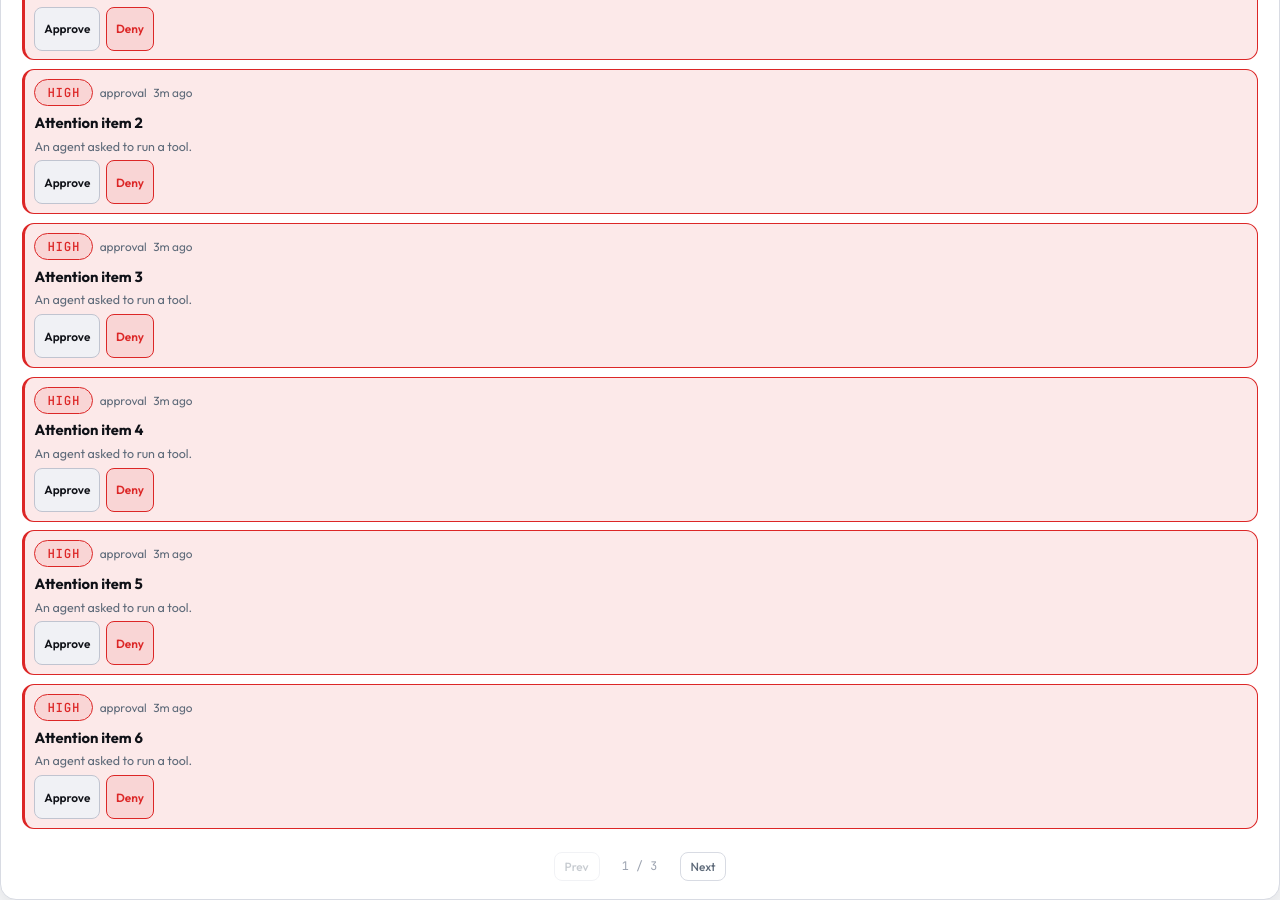
FocusPage queue parity › paginates at exactly six items with honest boundaries
The width and height of the screenshot is (1280, 900).
(page scrolled)
Expected: the element with class "mc-focus-item" shows "Attention item 6", 34,728 -> 143,747
Expected: the button "Prev" is disabled, 554,852 -> 600,881
Click the button "Next": (703, 866) 680,852 -> 726,881
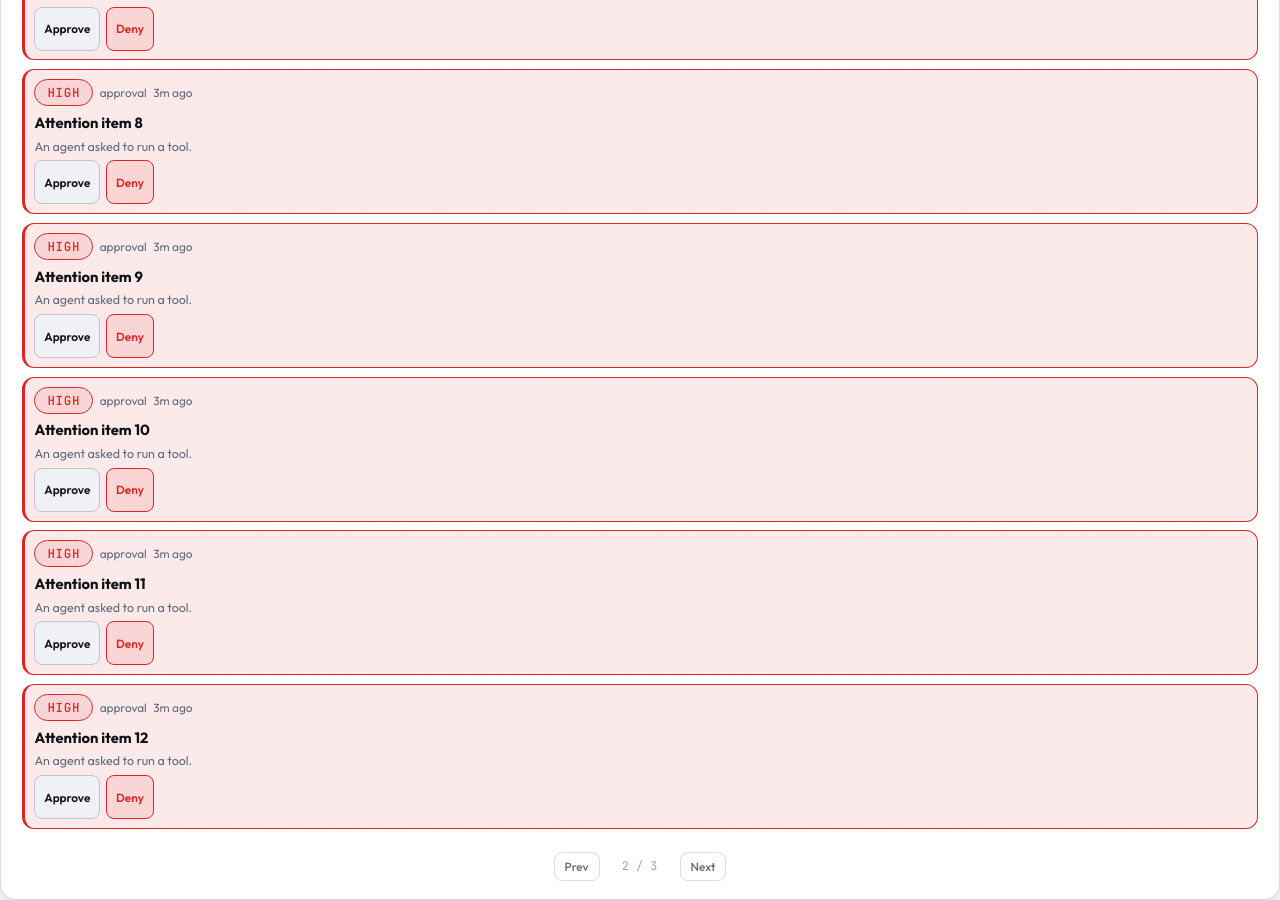
Expected: the element with class "mc-focus-item" shows "Attention item 12", 34,728 -> 148,747
Click the button "Next": (703, 866) 680,852 -> 726,881
(page scrolled)
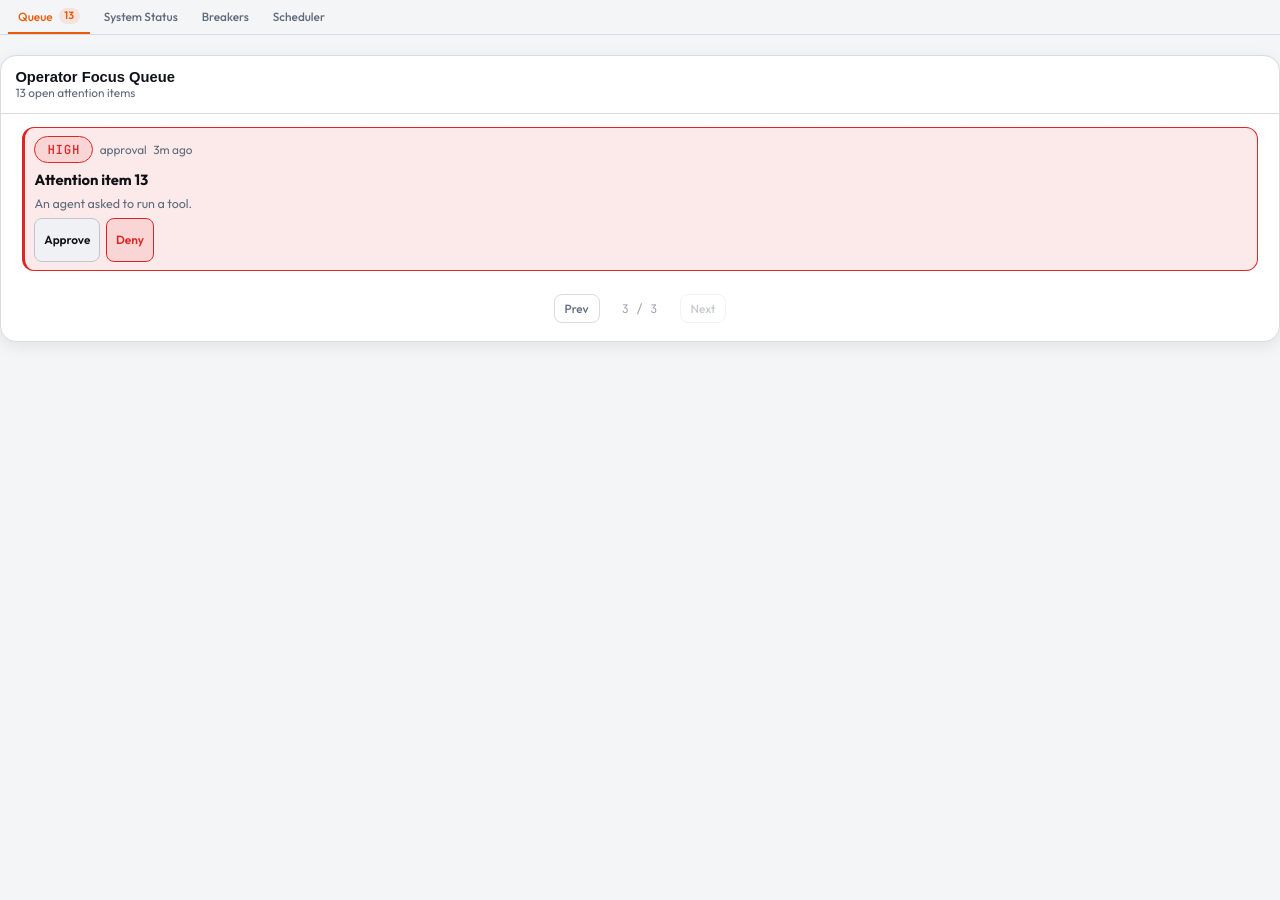
Expected: the element with class "mc-focus-item" shows "Attention item 13", 34,170 -> 148,189
Expected: the button "Next" is disabled, 680,294 -> 726,323
